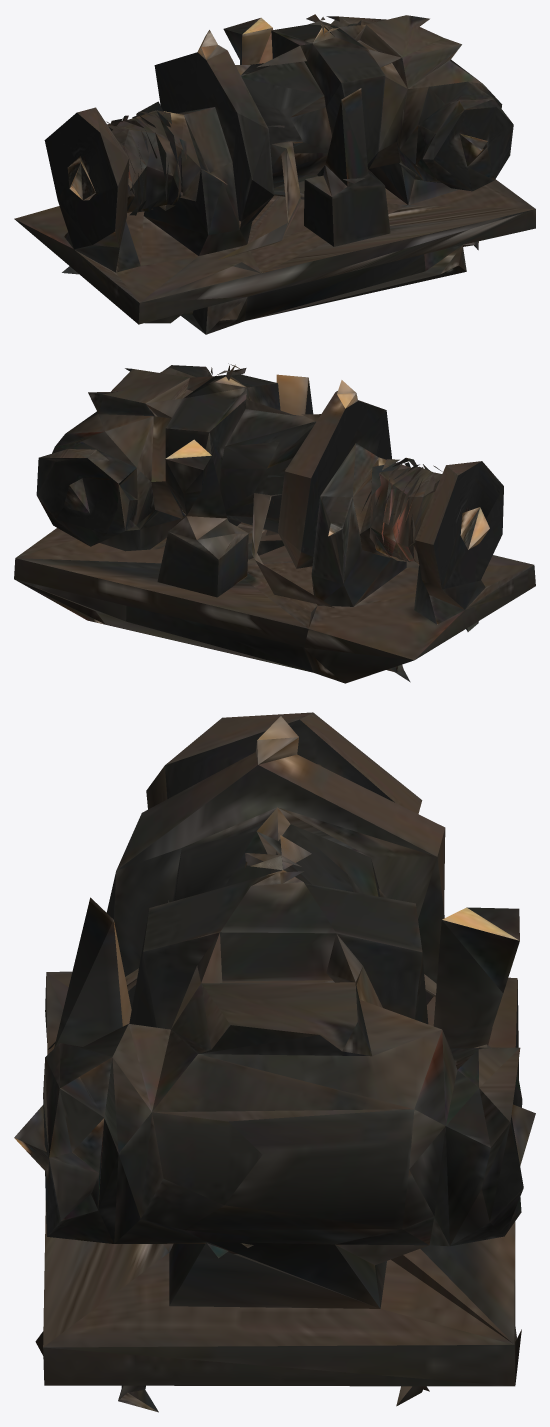
File: mj-marconi-motor-generator.lod1.glb
3 views of the same model, one above another, from view 1: azimuth 30°, elevation 25°; view 2: azimuth 150°, elevation 25°; view 3: azimuth 270°, elevation 25° (orthographic). The views are drawn at different scales.
Visible parts, largest first — view 1: mj-marconi-motor-generator; view 2: mj-marconi-motor-generator; view 3: mj-marconi-motor-generator.
Boxes of the visible parts, bbox=[...] form: mj-marconi-motor-generator: bbox=[14, 14, 535, 334]; mj-marconi-motor-generator: bbox=[14, 363, 535, 683]; mj-marconi-motor-generator: bbox=[14, 712, 535, 1412].
Size of the model in its own units: 1.18 by 0.6871 by 0.6804.
1 material, 1 textured.
